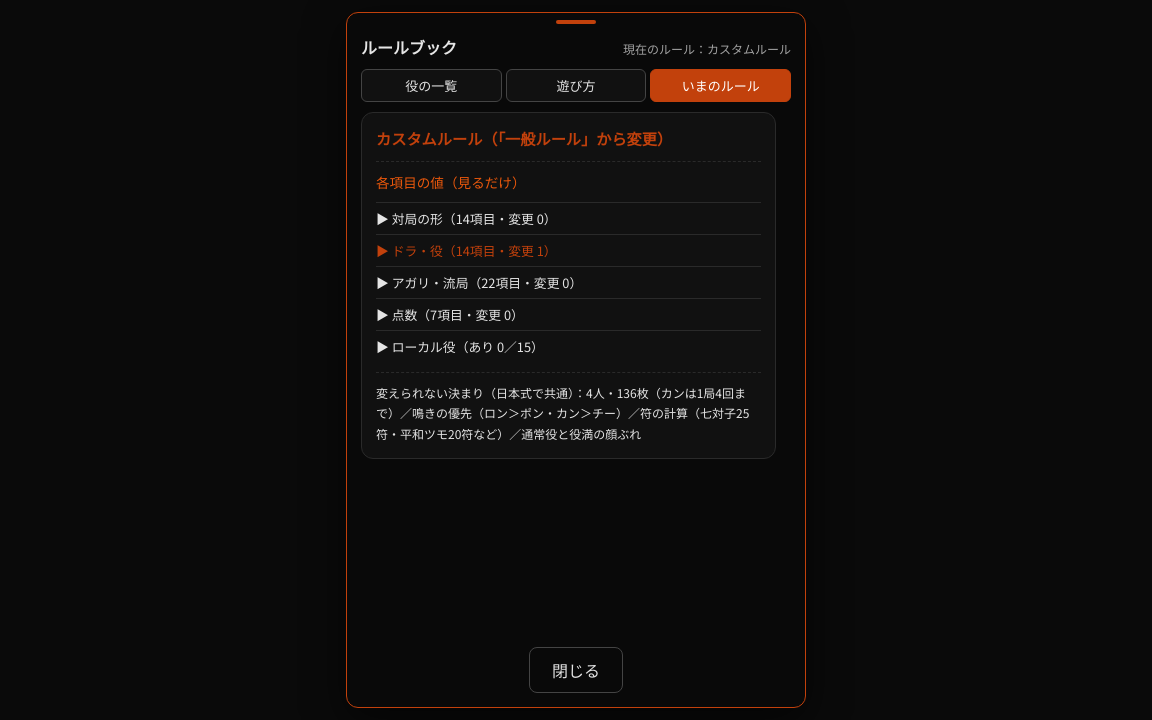
Test case: ルールブックの窓 › いまのルール（Q9=A）：設定画面と同じまとまりで畳んで出し、セットから変えた項目はオレンジ（基にしたセットは一番近いセット）
The image size is (1152, 720).
Expected: the text "現在のルール：カスタムルール" is shown, [623,40,791,57]
Expected: the panel with class "rb-body" shows "カスタムルール（「一般ルール」から変更）", [376,127,672,149]
Click the button "▶ ドラ・役（14項目・変更 1）".
click(417, 250)  # box [376,234,761,266]
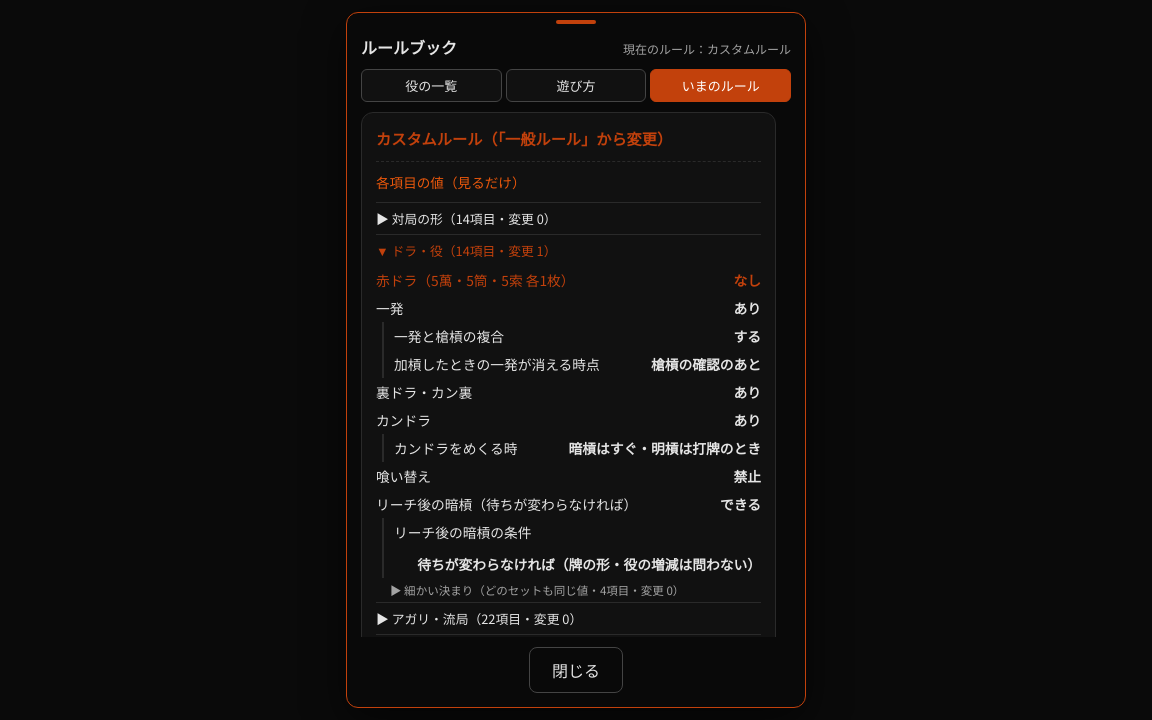
Now the element with class "set-row" shows "なし", box [734,270,761,290]
